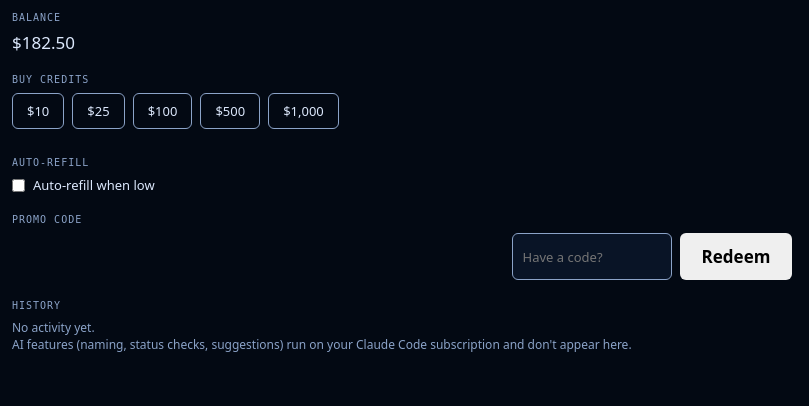
auto-refill block › toggle round-trips through saveAutoTopup and renders the server response
This screenshot has width=809, height=406.
Click the checkbox labelled "Auto-refill when low" at (18, 185), box [12, 178, 25, 192]
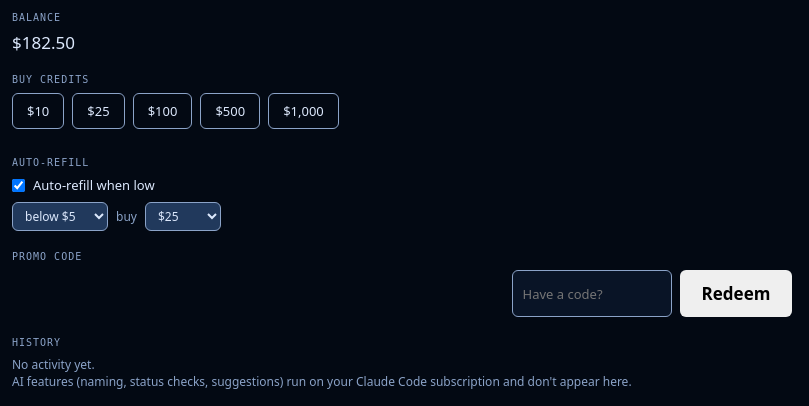
Result: the checkbox labelled "Auto-refill when low" is checked at [12, 178, 25, 192]
Result: the dropdown named "Refill threshold" is shown at [12, 202, 108, 231]
Result: the dropdown named "Refill pack" is shown at [145, 202, 221, 231]
